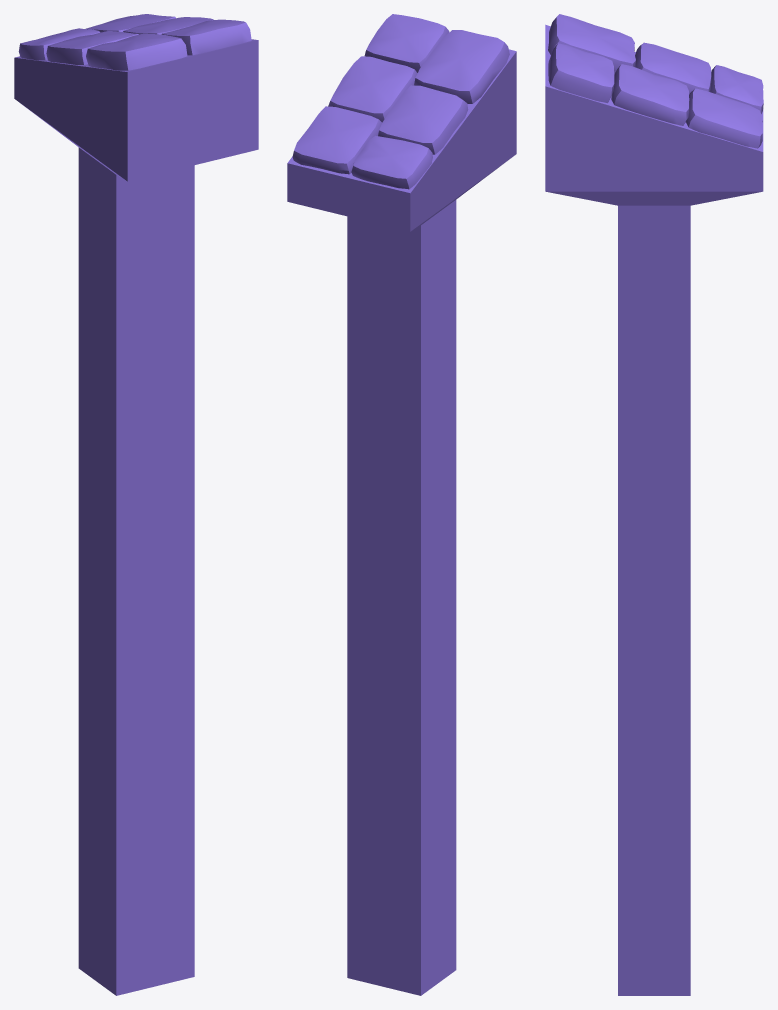
Rendered from Tilt Bridge.fbx.
The picture shows the model from 3 angles, left to right: view 1: azimuth 30°, elevation 25°; view 2: azimuth 150°, elevation 25°; view 3: azimuth 270°, elevation 25°; orthographic projection. The views are drawn at different scales.
Visible parts, largest first — view 1: Cube.090; view 2: Cube.090; view 3: Cube.090.
Part boxes in pixels (<box>): Cube.090: <box>14,14,258,995</box>; Cube.090: <box>287,14,516,995</box>; Cube.090: <box>545,14,763,995</box>.
Bounding box in the file's own units: 201 × 1422 × 301.
